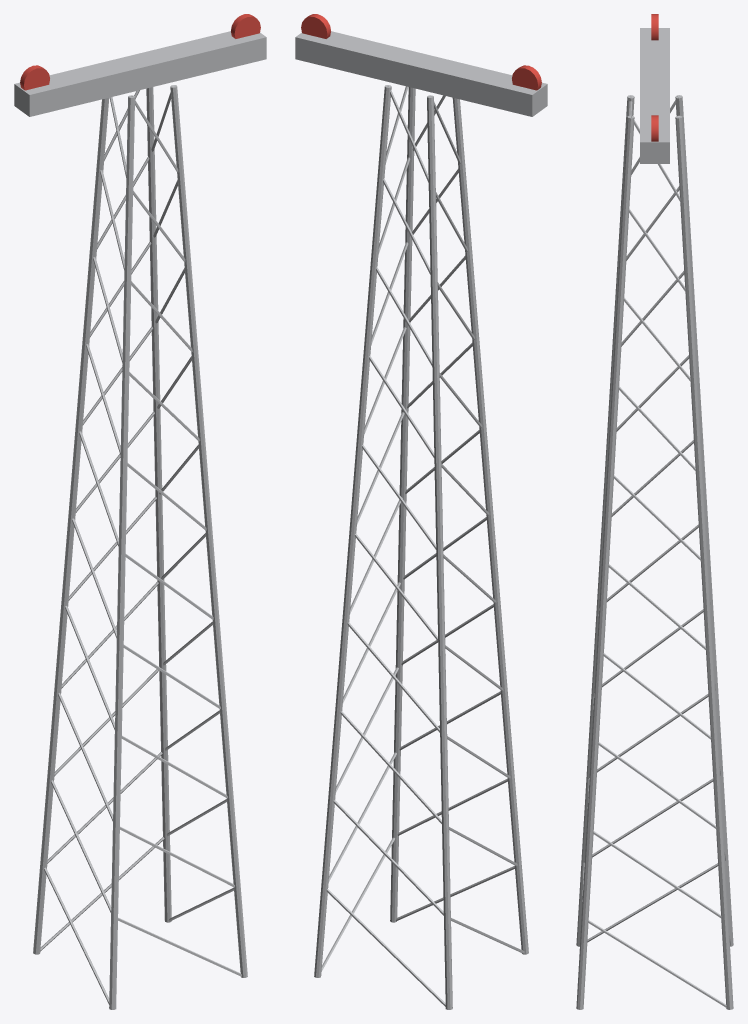
Rendered from SM_CableCar_Pylon.fbx.
3 views of the same model, side by side, from view 1: azimuth 30°, elevation 25°; view 2: azimuth 150°, elevation 25°; view 3: azimuth 270°, elevation 25° (orthographic).
Visible parts, largest first — view 1: SM_CableCar_Pylon; view 2: SM_CableCar_Pylon; view 3: SM_CableCar_Pylon.
Boxes of the visible parts, <box> form: SM_CableCar_Pylon: <box>14,14,266,1009</box>; SM_CableCar_Pylon: <box>295,14,547,1009</box>; SM_CableCar_Pylon: <box>576,14,733,1009</box>.
Size of the model in its own units: 900 by 3354 by 524.
